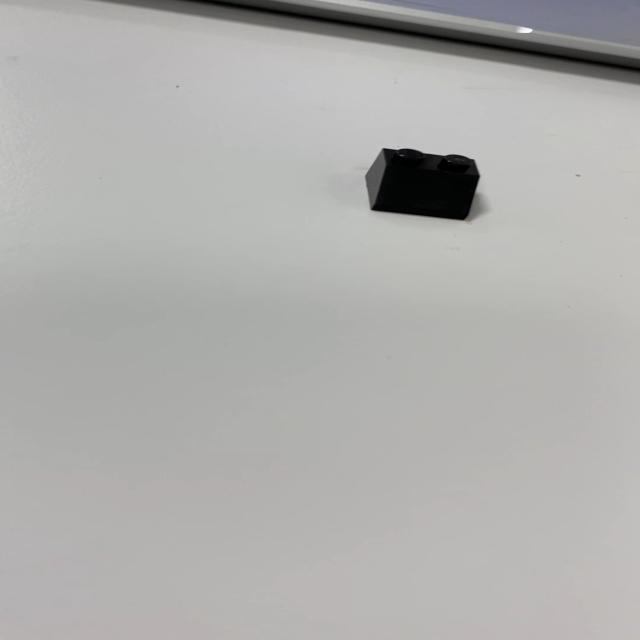P2x2x1: (363, 147, 481, 220)
